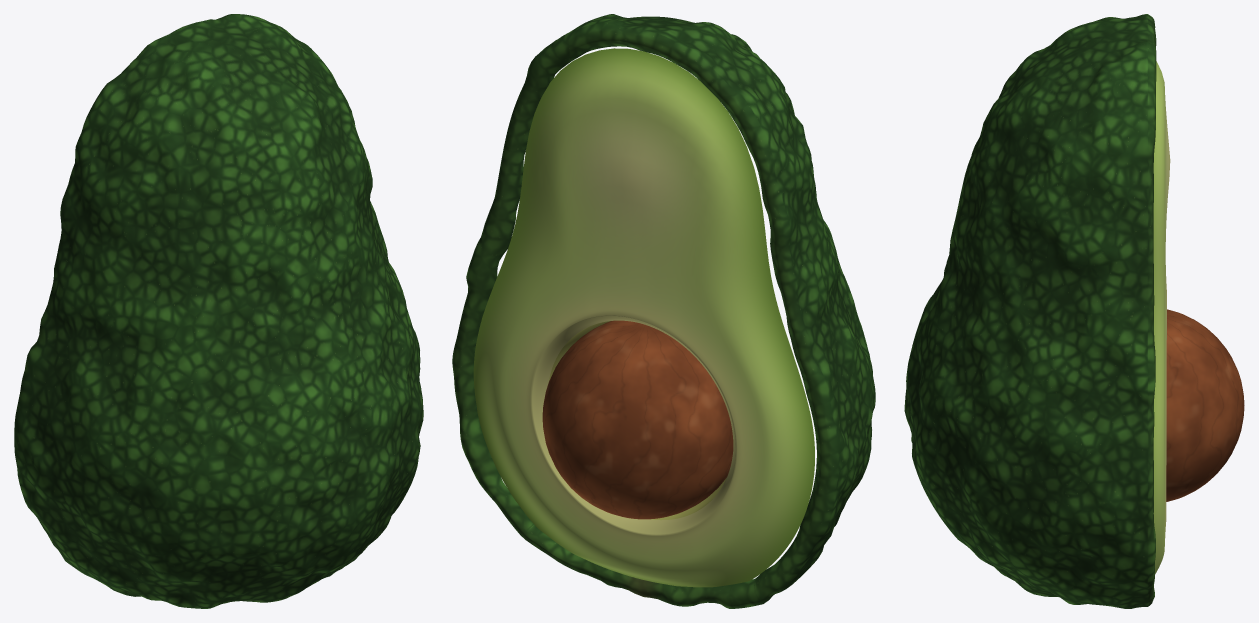
The model's file is avocado.glb.
3 renders of one model, left to right at view 1: azimuth 30°, elevation 25°; view 2: azimuth 150°, elevation 25°; view 3: azimuth 270°, elevation 25°, orthographic. The views are drawn at different scales.
Visible parts, largest first — view 1: avocado; view 2: avocado; view 3: avocado.
Boxes of the visible parts, x1,y1,x2,y2 form: avocado: (14,14,423,608); avocado: (452,14,875,608); avocado: (904,14,1244,608).
Bounding box in the file's own units: 0.6681 × 0.9374 × 0.5235.
Materials: 4 (4 with a texture image).
